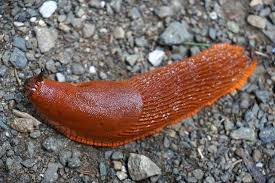slug: (27, 43, 253, 149)
